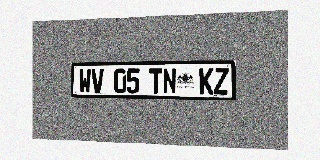0: (114, 69, 126, 93)
5: (127, 69, 140, 94)
K: (199, 68, 213, 94)
N: (163, 68, 176, 94)
T: (149, 68, 162, 94)
V: (91, 69, 104, 93)
W: (79, 69, 91, 93)
Z: (214, 68, 228, 94)
